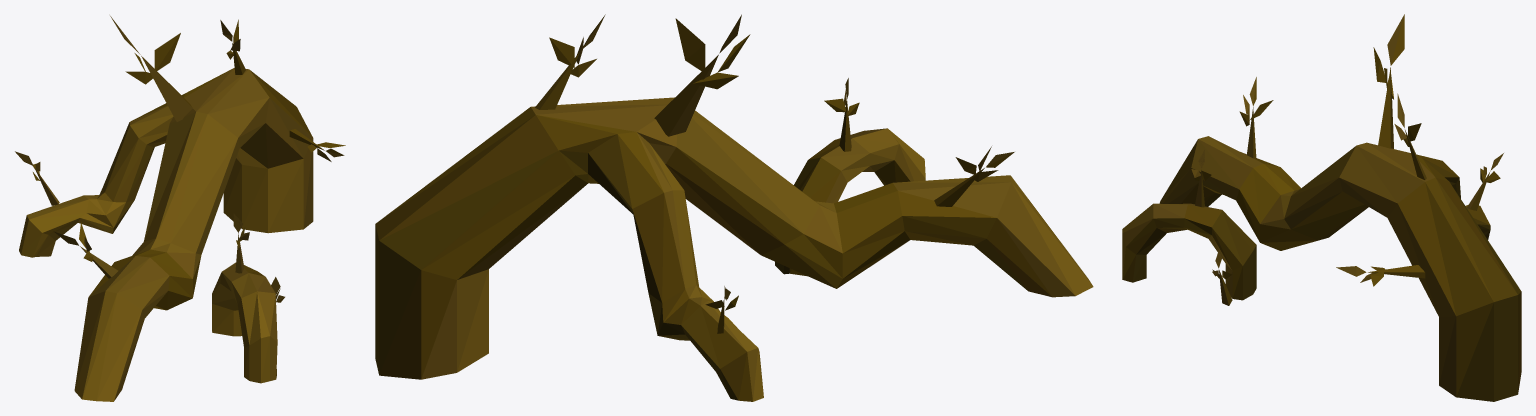
Rendered from roots.fbx.
The picture shows the model from 3 angles, left to right: view 1: azimuth 30°, elevation 25°; view 2: azimuth 150°, elevation 25°; view 3: azimuth 270°, elevation 25°; orthographic projection. The views are drawn at different scales.
Parts seen in each view (by area): view 1: Object Roots 2024-03-15_18-52-36; view 2: Object Roots 2024-03-15_18-52-36; view 3: Object Roots 2024-03-15_18-52-36.
Part boxes in pixels (x1,y1,x2,y2): Object Roots 2024-03-15_18-52-36: (15, 16, 345, 401); Object Roots 2024-03-15_18-52-36: (375, 14, 1093, 401); Object Roots 2024-03-15_18-52-36: (1122, 14, 1521, 401).
Size of the model in its own units: 12400 by 8900 by 11600.
